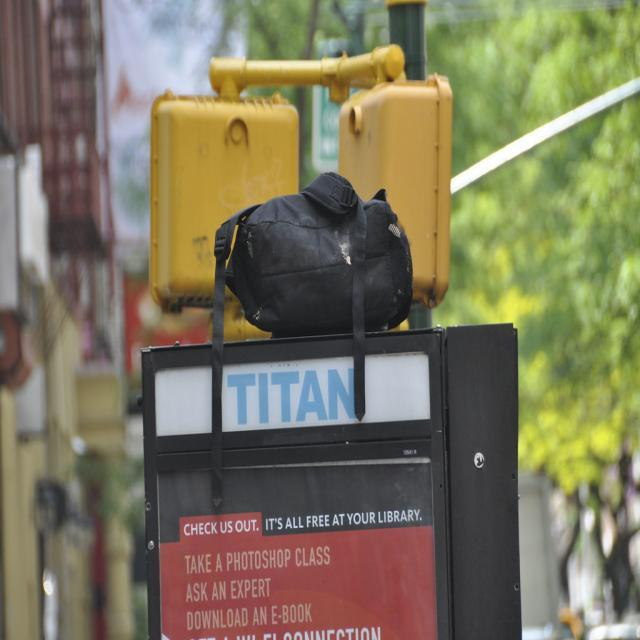Backpacks: (209, 179, 438, 352)
